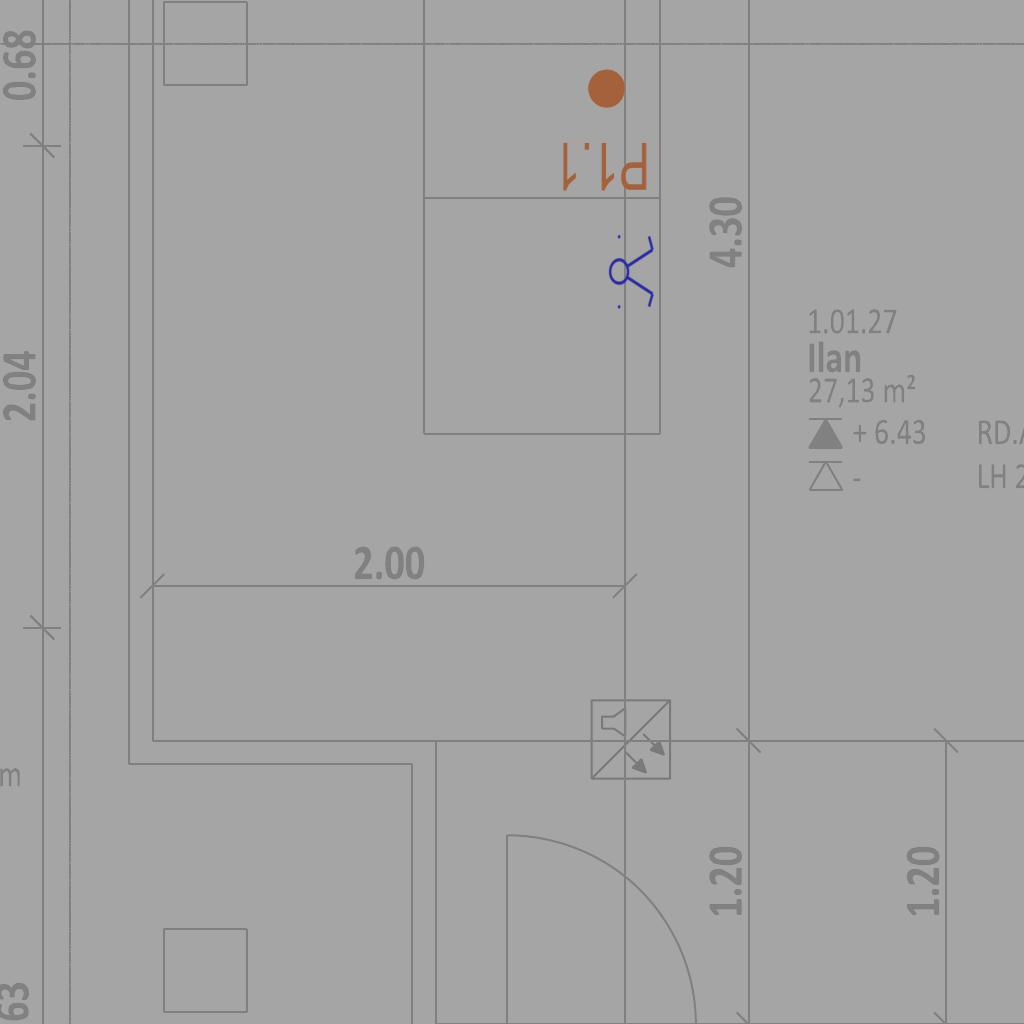Downlight_LED_Einbauleuchten_Flur: (557, 66, 650, 194)
Serienschalter: (608, 229, 656, 313)
